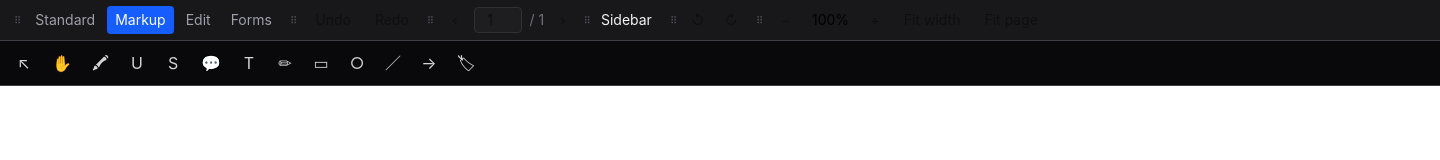
Test: Toolbar › hides mode tools row in document mode
This screenshot has width=1440, height=160.
Click the button with test id "toolbar-mode-document". click: click(65, 20)
box: 27,6 -> 103,34
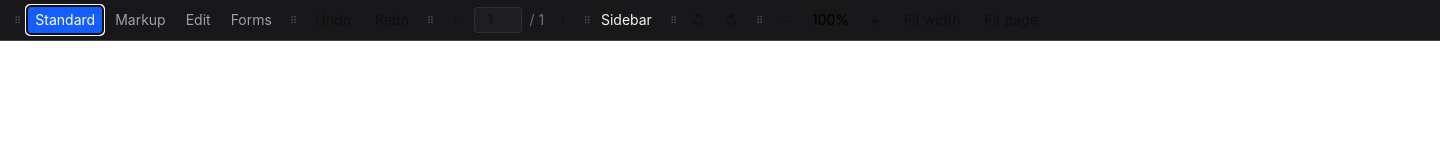
Result: the element with test id "toolbar-mode-tools" is gone
